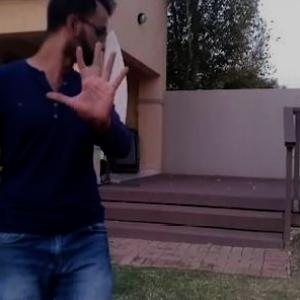follow_hand: (46, 36, 134, 126)
